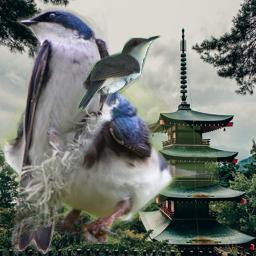Cuckoo: (76, 35, 162, 112)
Swallow: (0, 52, 219, 244), (8, 7, 114, 254)
